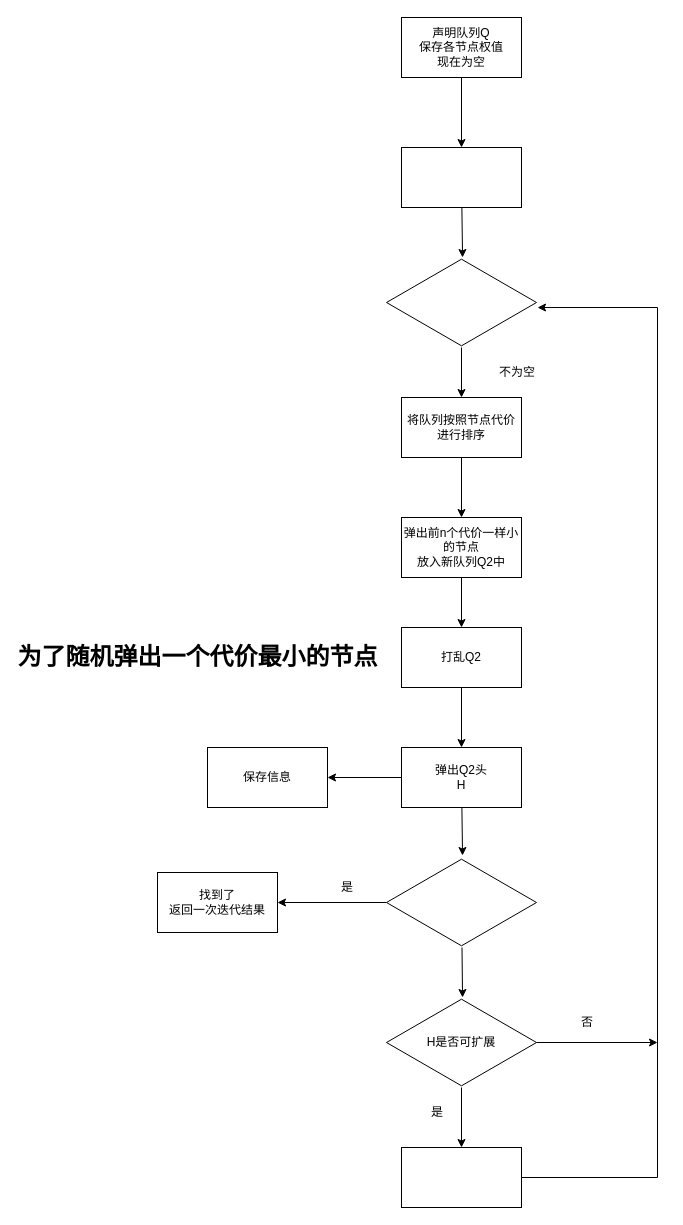
Image size: 683x1225. Some labels were removed from this diagram. The shapes that lost their labels are listed below. From the top down, each one's centre as x and y in pixels, then its label:
At pixel 461 177: "从起始点开始 遍历邻接表第二维 将所有代价不为inf的节点放入队列中".
At pixel 461 302: "队列不为空则循环".
At pixel 461 902: "H是否是终点".
At pixel 461 1177: "扩展H 更新队列Q".
